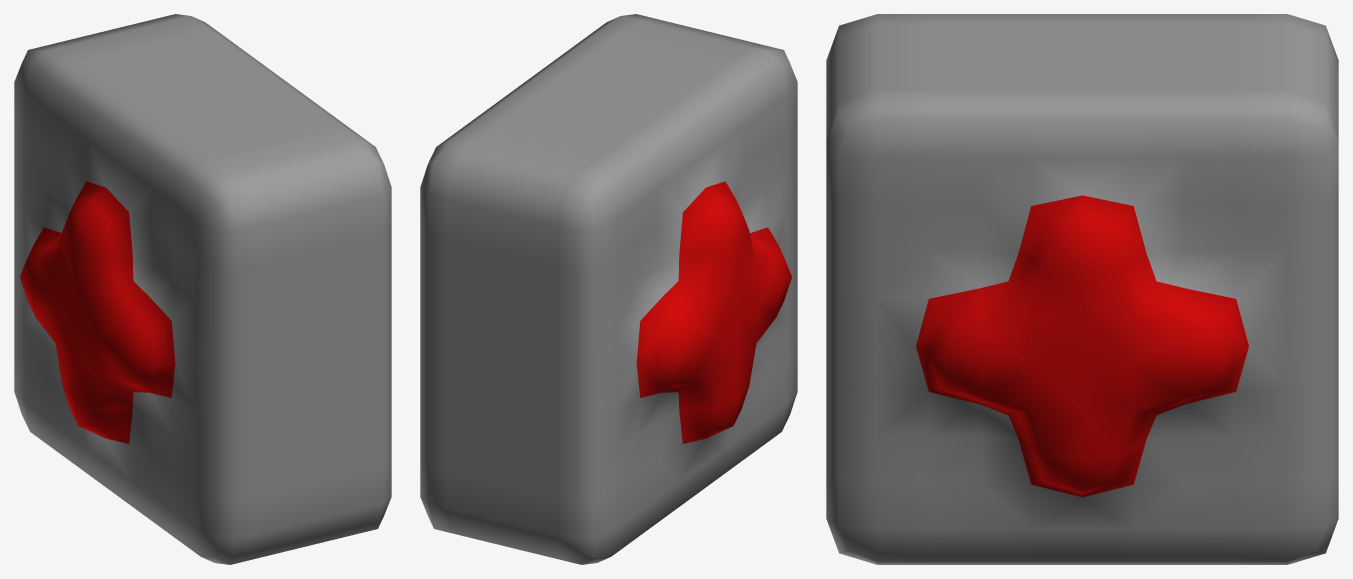
Rendered from MEDI.fbx.
The picture shows the model from 3 angles, left to right: view 1: azimuth 30°, elevation 25°; view 2: azimuth 150°, elevation 25°; view 3: azimuth 270°, elevation 25°; orthographic projection. The views are drawn at different scales.
Parts seen in each view (by area): view 1: Box001; view 2: Box001; view 3: Box001.
Boxes of the visible parts, x1,y1,x2,y2 form: Box001: (14, 14, 391, 564); Box001: (420, 14, 797, 564); Box001: (826, 14, 1338, 564).
Bounding box in the file's own units: 35 × 50 × 50.
